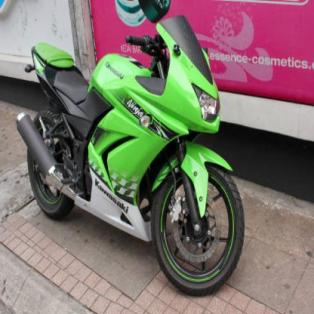Motocicleta: (16, 0, 248, 299)
